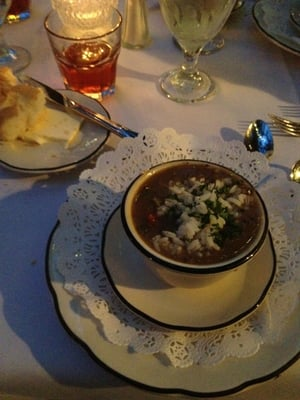burger: (268, 111, 300, 137)
pizza: (43, 0, 123, 100)
sandwich: (16, 71, 138, 140)
sushi: (121, 160, 268, 273)
